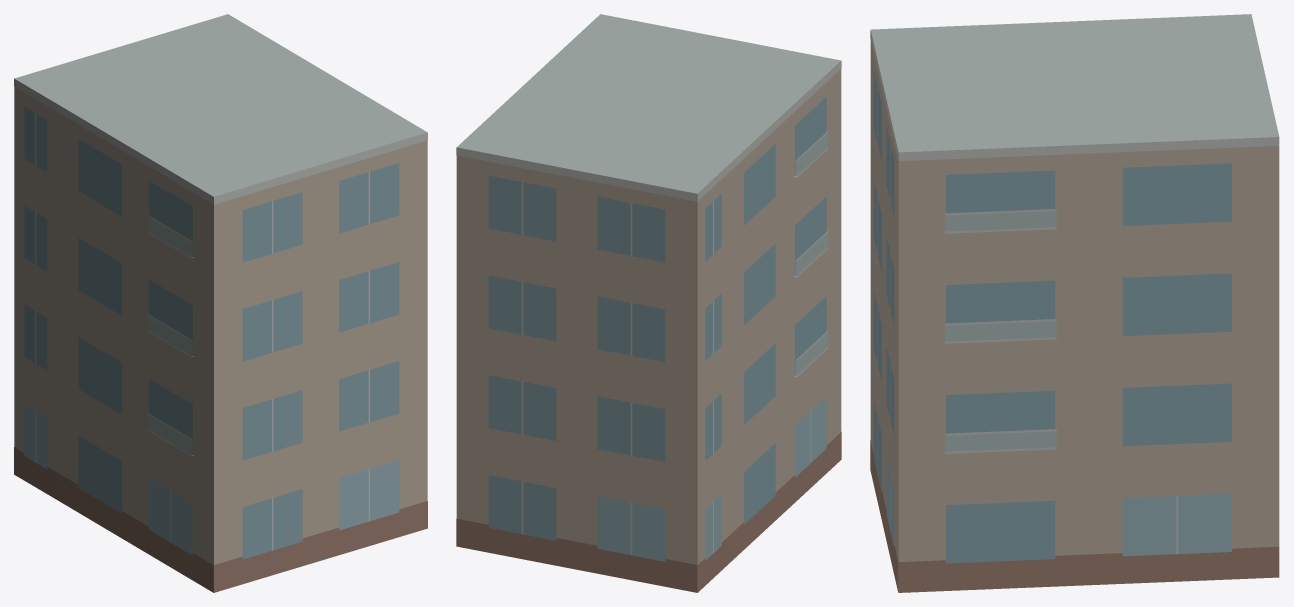
File: residential-1b65dd20-37a5-423b-a752-482cccf2e127.glb
3 renders of one model, left to right at view 1: azimuth 30°, elevation 25°; view 2: azimuth 150°, elevation 25°; view 3: azimuth 270°, elevation 25°, orthographic. The views are drawn at different scales.
Visible parts, largest first — view 1: residential-1b65dd20-37a5-423b-a752-482cccf2e127.tmp; view 2: residential-1b65dd20-37a5-423b-a752-482cccf2e127.tmp; view 3: residential-1b65dd20-37a5-423b-a752-482cccf2e127.tmp.
Boxes of the visible parts, box(x1,y1,x2,y2) form: residential-1b65dd20-37a5-423b-a752-482cccf2e127.tmp: box(14, 14, 427, 592); residential-1b65dd20-37a5-423b-a752-482cccf2e127.tmp: box(456, 14, 841, 592); residential-1b65dd20-37a5-423b-a752-482cccf2e127.tmp: box(870, 14, 1279, 592).
Size of the model in its own units: 8.23 by 12.2 by 10.28.
